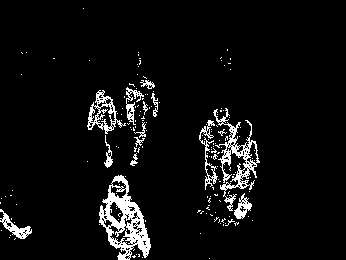person: (97, 174, 152, 260), (223, 119, 261, 221), (199, 106, 234, 208), (87, 90, 117, 165), (123, 84, 149, 165)
